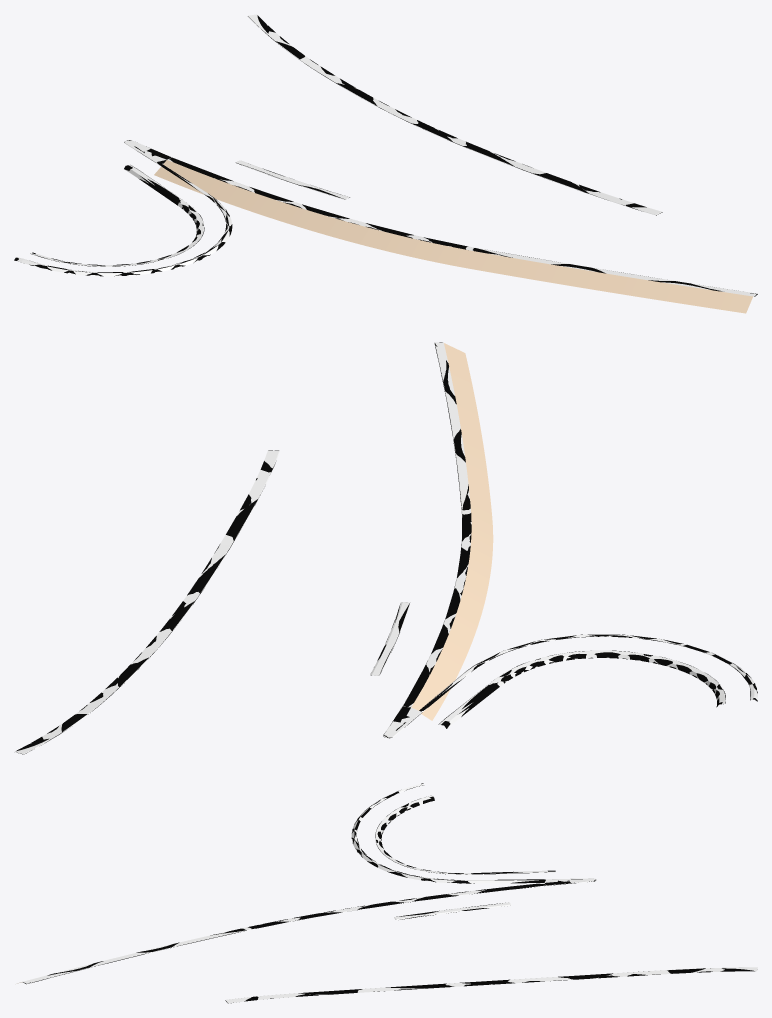
Rendered from sidewalk_onramp1.dae.
3 renders of one model, top to bottom at view 1: azimuth 30°, elevation 25°; view 2: azimuth 150°, elevation 25°; view 3: azimuth 270°, elevation 25°, orthographic. The views are drawn at different scales.
Visible parts, largest first — view 1: sidewalk_onramp1_a3000, sidewalk_onramp1_a2000; view 2: sidewalk_onramp1_a3000, sidewalk_onramp1_a2000; view 3: sidewalk_onramp1_a3000, sidewalk_onramp1_a2000.
Part boxes in pixels (x1=…): sidewalk_onramp1_a3000: x1=16, y1=14, x2=756, y2=313; sidewalk_onramp1_a2000: x1=14, y1=15, x2=757, y2=296; sidewalk_onramp1_a3000: x1=14, y1=342, x2=757, y2=754; sidewalk_onramp1_a2000: x1=16, y1=342, x2=757, y2=754; sidewalk_onramp1_a3000: x1=17, y1=784, x2=757, y2=1003; sidewalk_onramp1_a2000: x1=23, y1=783, x2=754, y2=1003.
Size of the model in its own units: 242 by 344 by 12.83.
